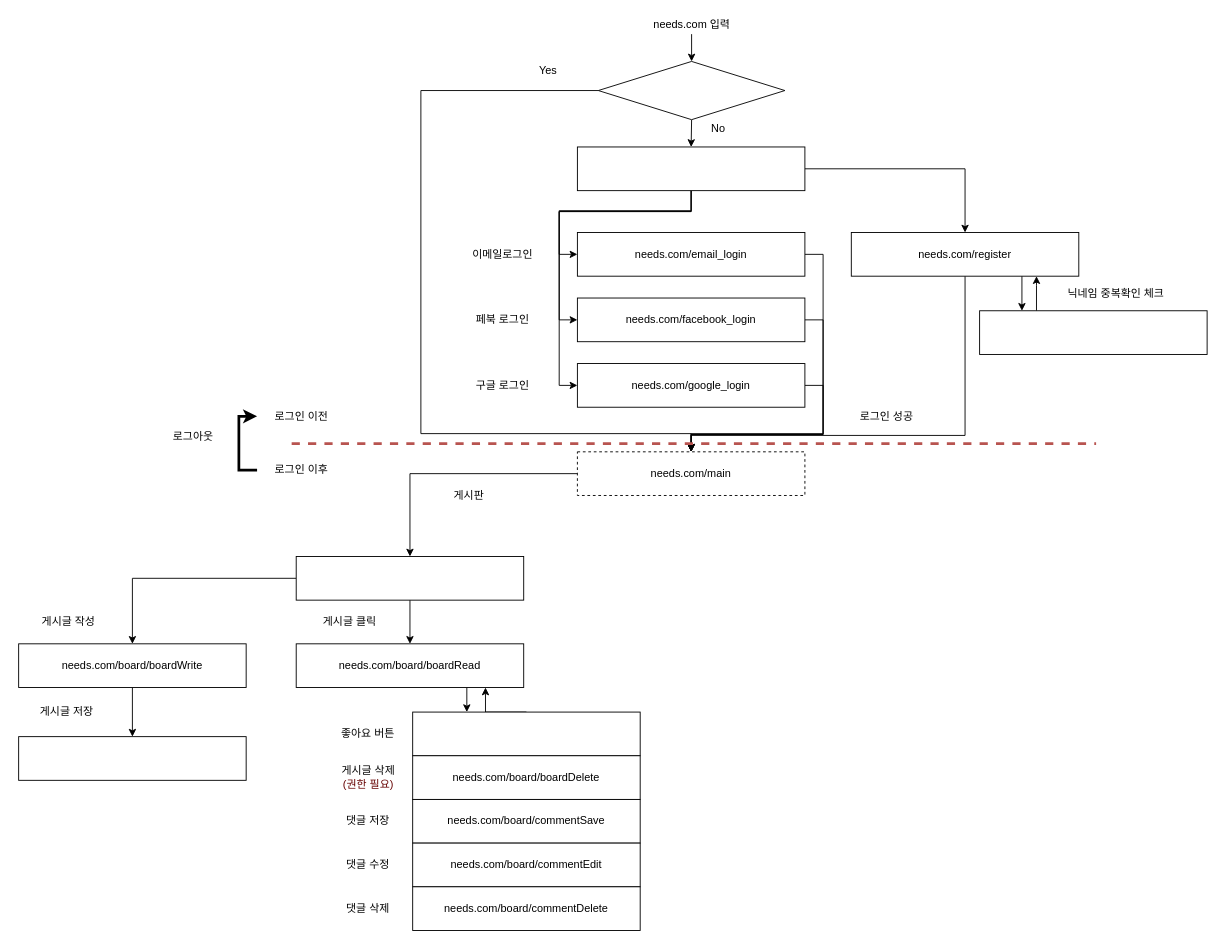
This 1223x946 diagram has some shape labels left out. Here are the shapes that lost their labels. From the top down, the centre of each, then its label:
At point 691,90: "로그인 되어 있는지?".
At point 690,168: "needs.com/".
At point 1093,332: "needs.com/check (실제 페이지는 렌더링 되지 않음)".
At point 409,578: "needs.com/board/boardList".
At point 526,733: "needs.com/board/boardLike".
At point 132,758: "needs.com/board/boardSave".
